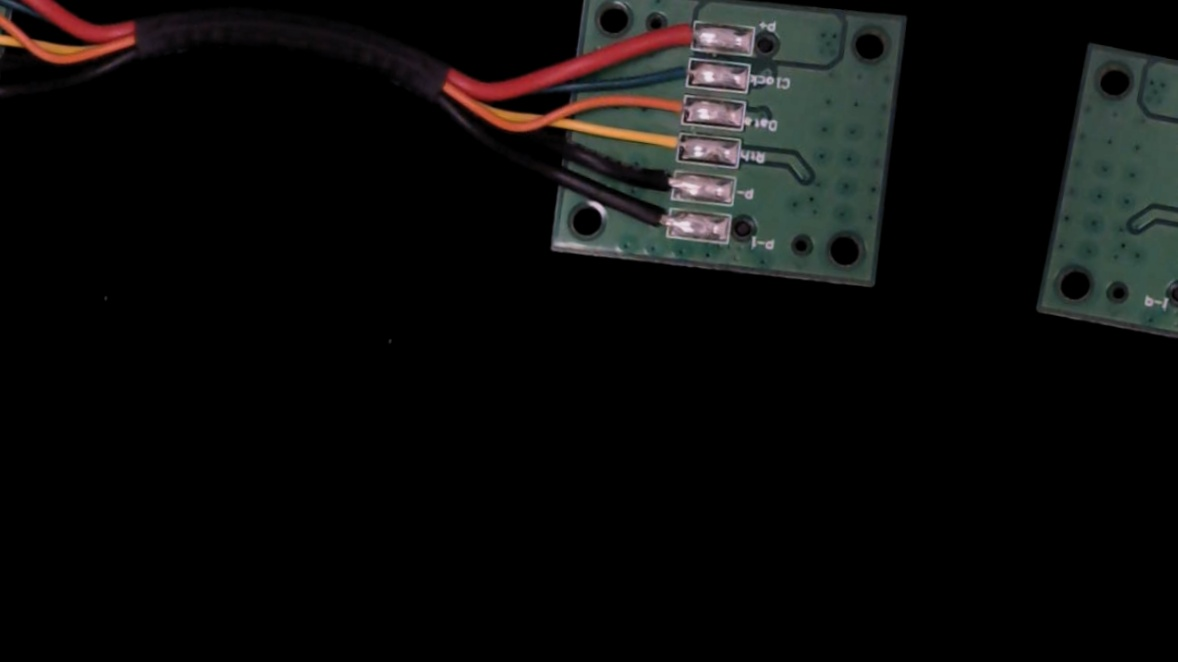Black: (617, 158, 692, 202)
Black1: (615, 200, 685, 241)
Green: (634, 49, 707, 92)
Orange: (628, 84, 702, 126)
Red: (640, 13, 713, 56)
Yellow: (620, 121, 696, 164)
